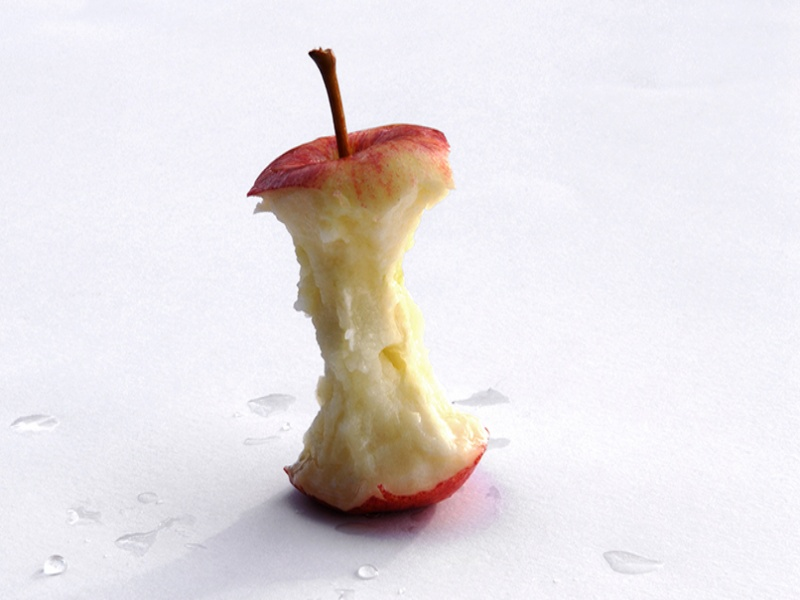Apple_core_BioD: (205, 28, 524, 579)
